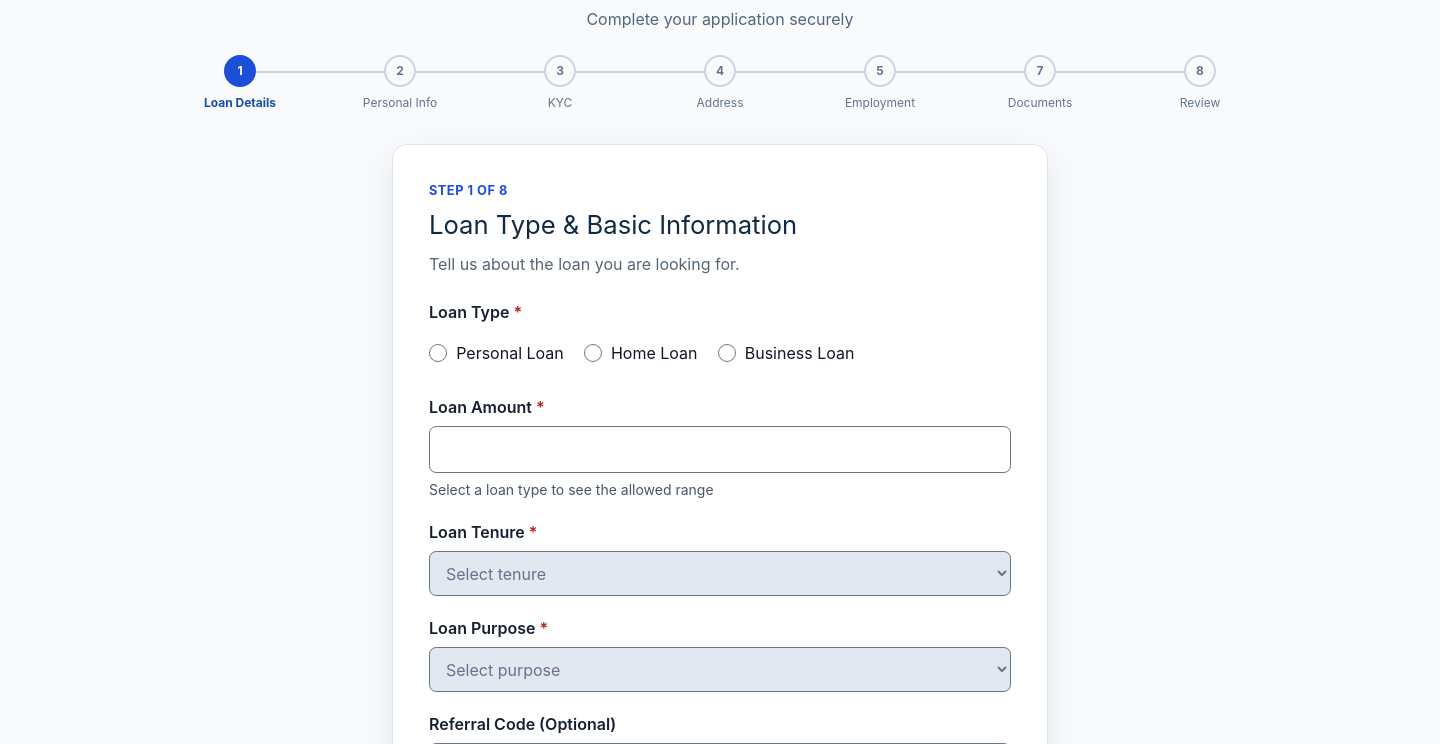
Test: Step 2 personal information flow › announces required errors and focuses the first invalid field
Step 1. Click the radio button labelled "Personal Loan" → (438, 353), box top-left (429, 344), bottom-right (447, 362)
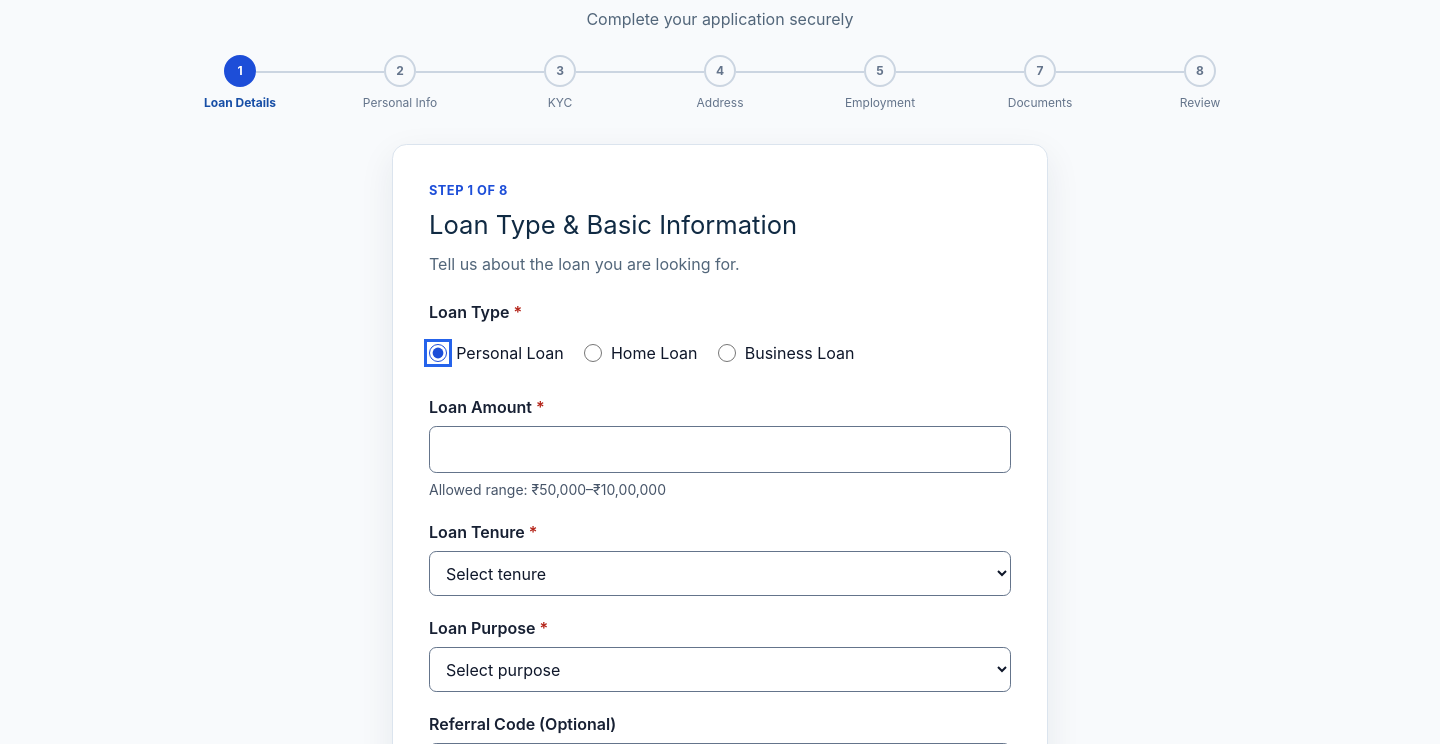
Step 2. Type "500000" into the field labelled "Loan Amount *" → (720, 450), box top-left (429, 426), bottom-right (1011, 473)
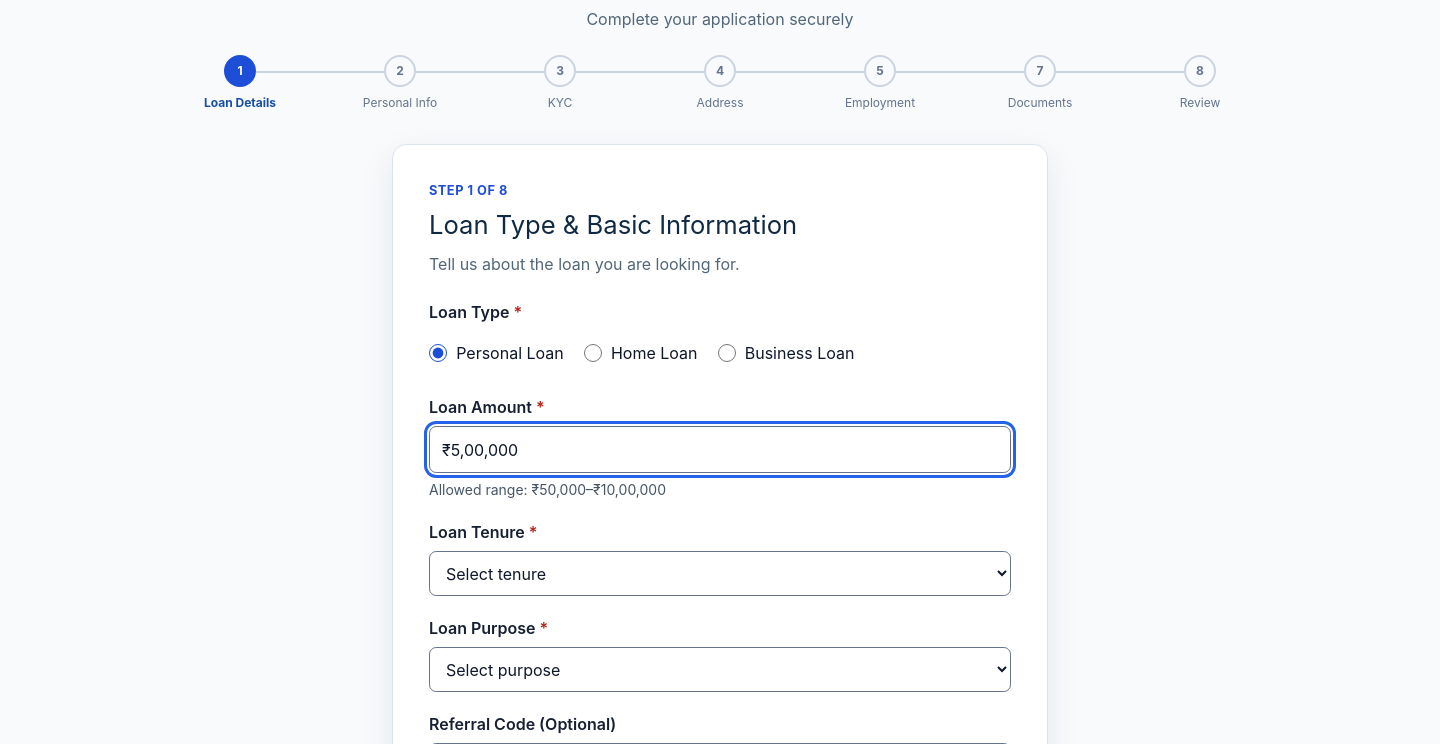
Step 3. Select "24 months" in the dropdown labelled "Loan Tenure *" → (720, 574), box top-left (429, 552), bottom-right (1011, 596)
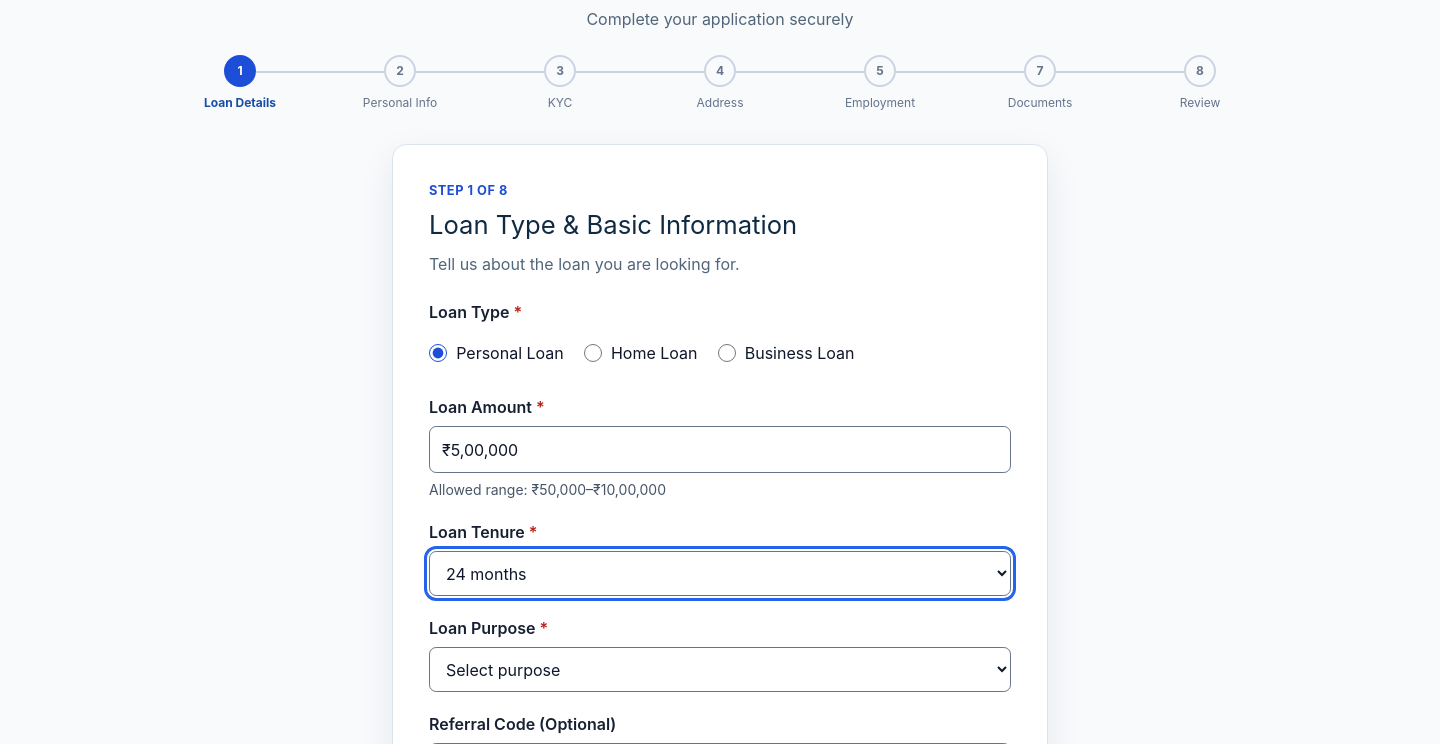
Step 4. Select "Education" in the dropdown labelled "Loan Purpose *" → (720, 670), box top-left (429, 647), bottom-right (1011, 692)
(page scrolled)
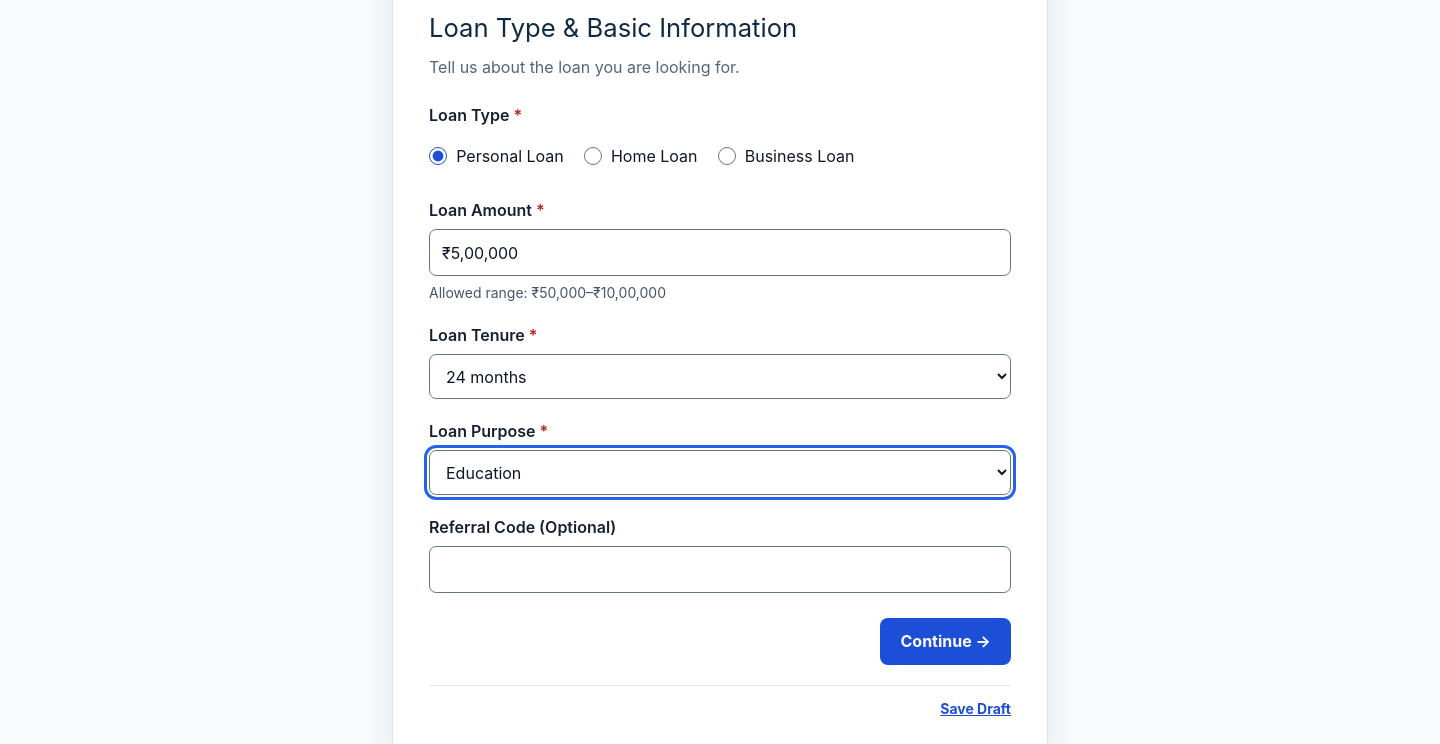
Step 5. Click the button "Continue →" → (946, 641), box top-left (880, 618), bottom-right (1011, 665)
(page scrolled)
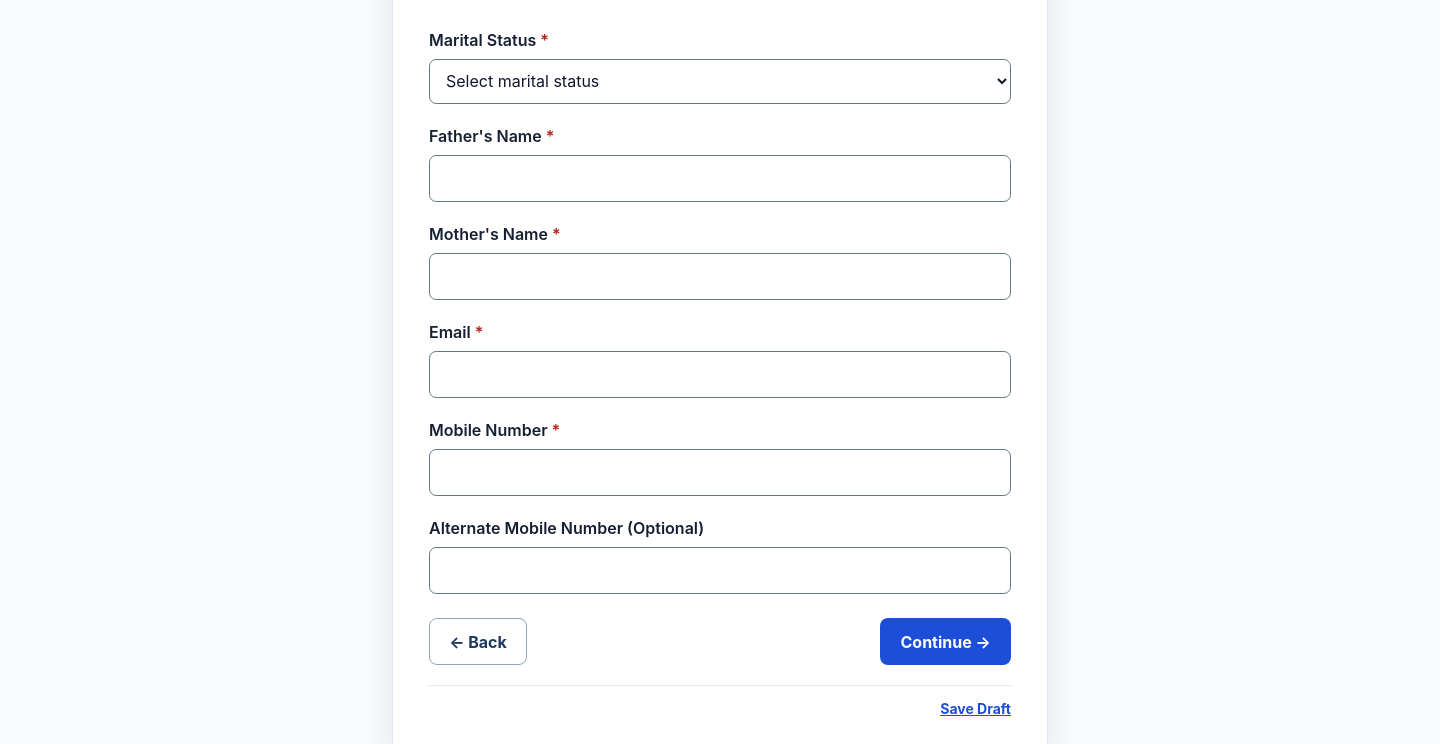
Step 6. Click the button "Continue →" → (946, 642), box top-left (880, 618), bottom-right (1011, 665)
(page scrolled)
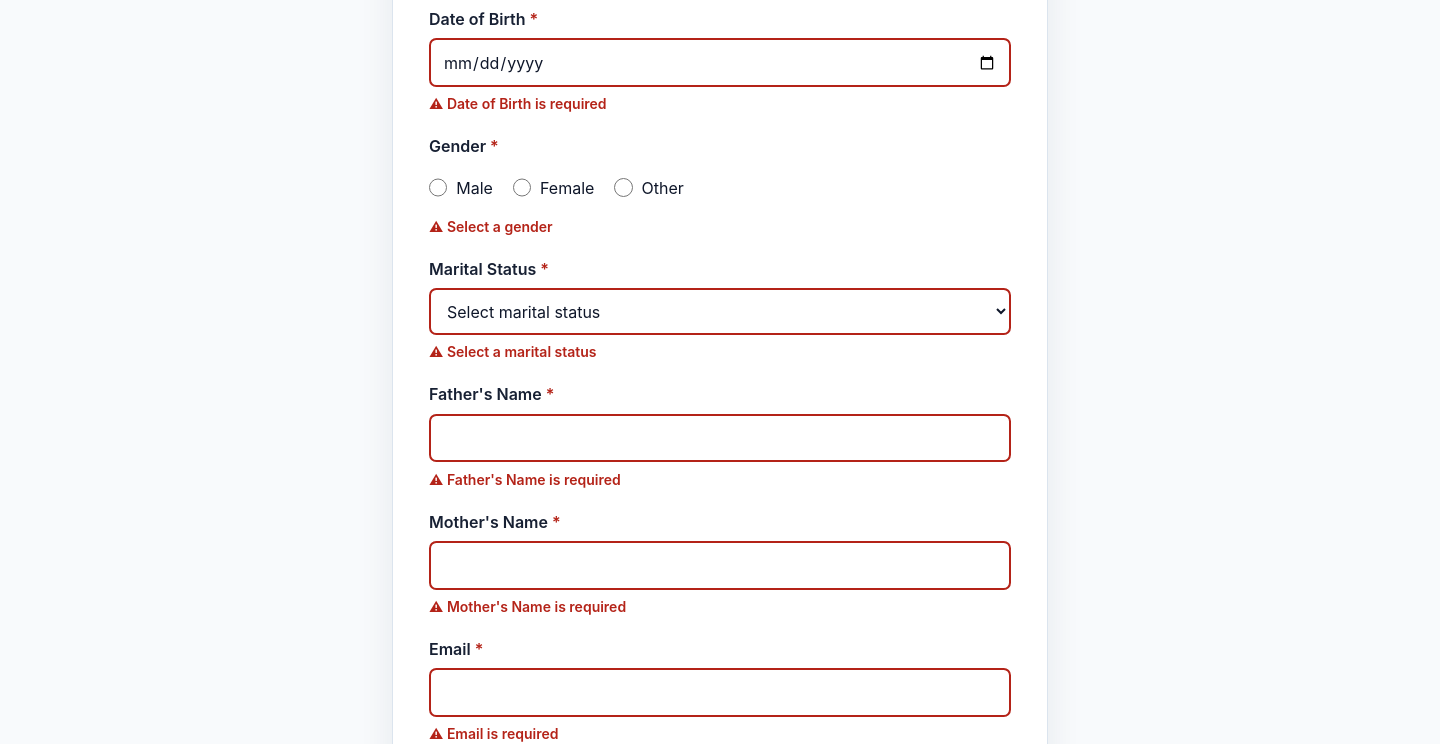
Now the text "Select a gender" is shown, box top-left (447, 218), bottom-right (553, 235)
Now the text "Select a marital status" is shown, box top-left (447, 343), bottom-right (597, 360)
